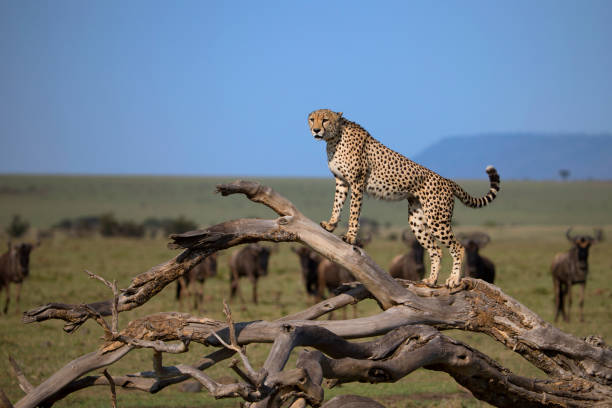cheetah: (304, 105, 345, 147)
